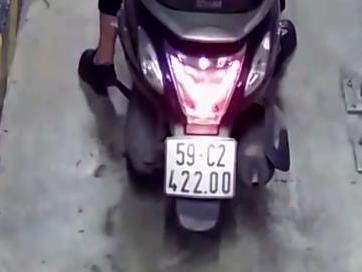num_plate: (164, 138, 236, 197)
